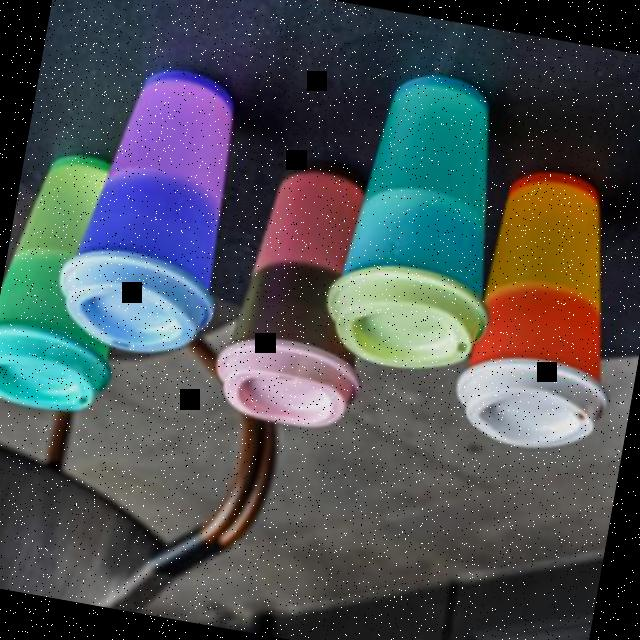plastic_cup: (319, 60, 529, 378), (50, 53, 254, 363), (450, 160, 640, 458), (206, 152, 393, 434), (0, 144, 160, 419)
